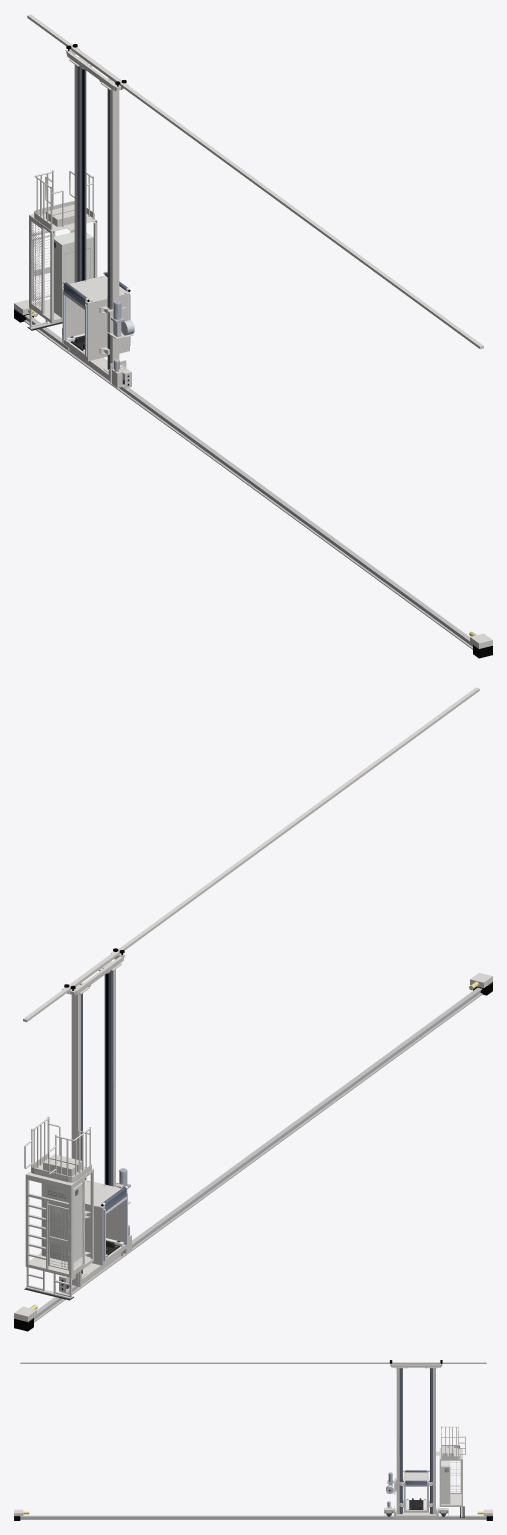
Rendered from Stacker.glb.
3 renders of one model, top to bottom at view 1: azimuth 30°, elevation 25°; view 2: azimuth 150°, elevation 25°; view 3: azimuth 270°, elevation 25°, orthographic. The views are drawn at different scales.
Visible parts, largest first — view 1: caozuotai.8, guidaoxia.2, xiang.13, lizhu1.11, guidaoshang.1, lizhu2.12, dianji.7; view 2: caozuotai.8, guidaoxia.2, guidaoshang.1, xiang.13, lizhu1.11, lizhu2.12; view 3: guidaoxia.2, caozuotai.8, lizhu1.11, guidaoshang.1, xiang.13, lizhu2.12, dianji.7, dibu.6, dingbu.5.
Part boxes in pixels (bbox=[...]): caozuotai.8: bbox=[27, 170, 97, 351]; guidaoxia.2: bbox=[14, 300, 492, 658]; xiang.13: bbox=[62, 271, 130, 361]; lizhu1.11: bbox=[100, 80, 119, 375]; guidaoshang.1: bbox=[27, 14, 483, 349]; lizhu2.12: bbox=[69, 57, 88, 282]; dianji.7: bbox=[107, 300, 134, 388]; caozuotai.8: bbox=[24, 1116, 93, 1300]; guidaoxia.2: bbox=[14, 973, 492, 1331]; guidaoshang.1: bbox=[23, 687, 479, 1022]; xiang.13: bbox=[85, 1177, 127, 1265]; lizhu1.11: bbox=[102, 961, 121, 1186]; lizhu2.12: bbox=[71, 984, 89, 1279]; guidaoxia.2: bbox=[14, 1509, 492, 1520]; caozuotai.8: bbox=[436, 1426, 465, 1518]; lizhu1.11: bbox=[395, 1367, 404, 1515]; guidaoshang.1: bbox=[20, 1362, 486, 1363]; xiang.13: bbox=[399, 1470, 432, 1512]; lizhu2.12: bbox=[428, 1367, 436, 1515]; dianji.7: bbox=[384, 1472, 396, 1518]; dibu.6: bbox=[395, 1512, 437, 1518]; dingbu.5: bbox=[392, 1364, 440, 1368].
Bounding box in the file's own units: 1300 × 8380 × 23012.
13 materials, 13 textured.
